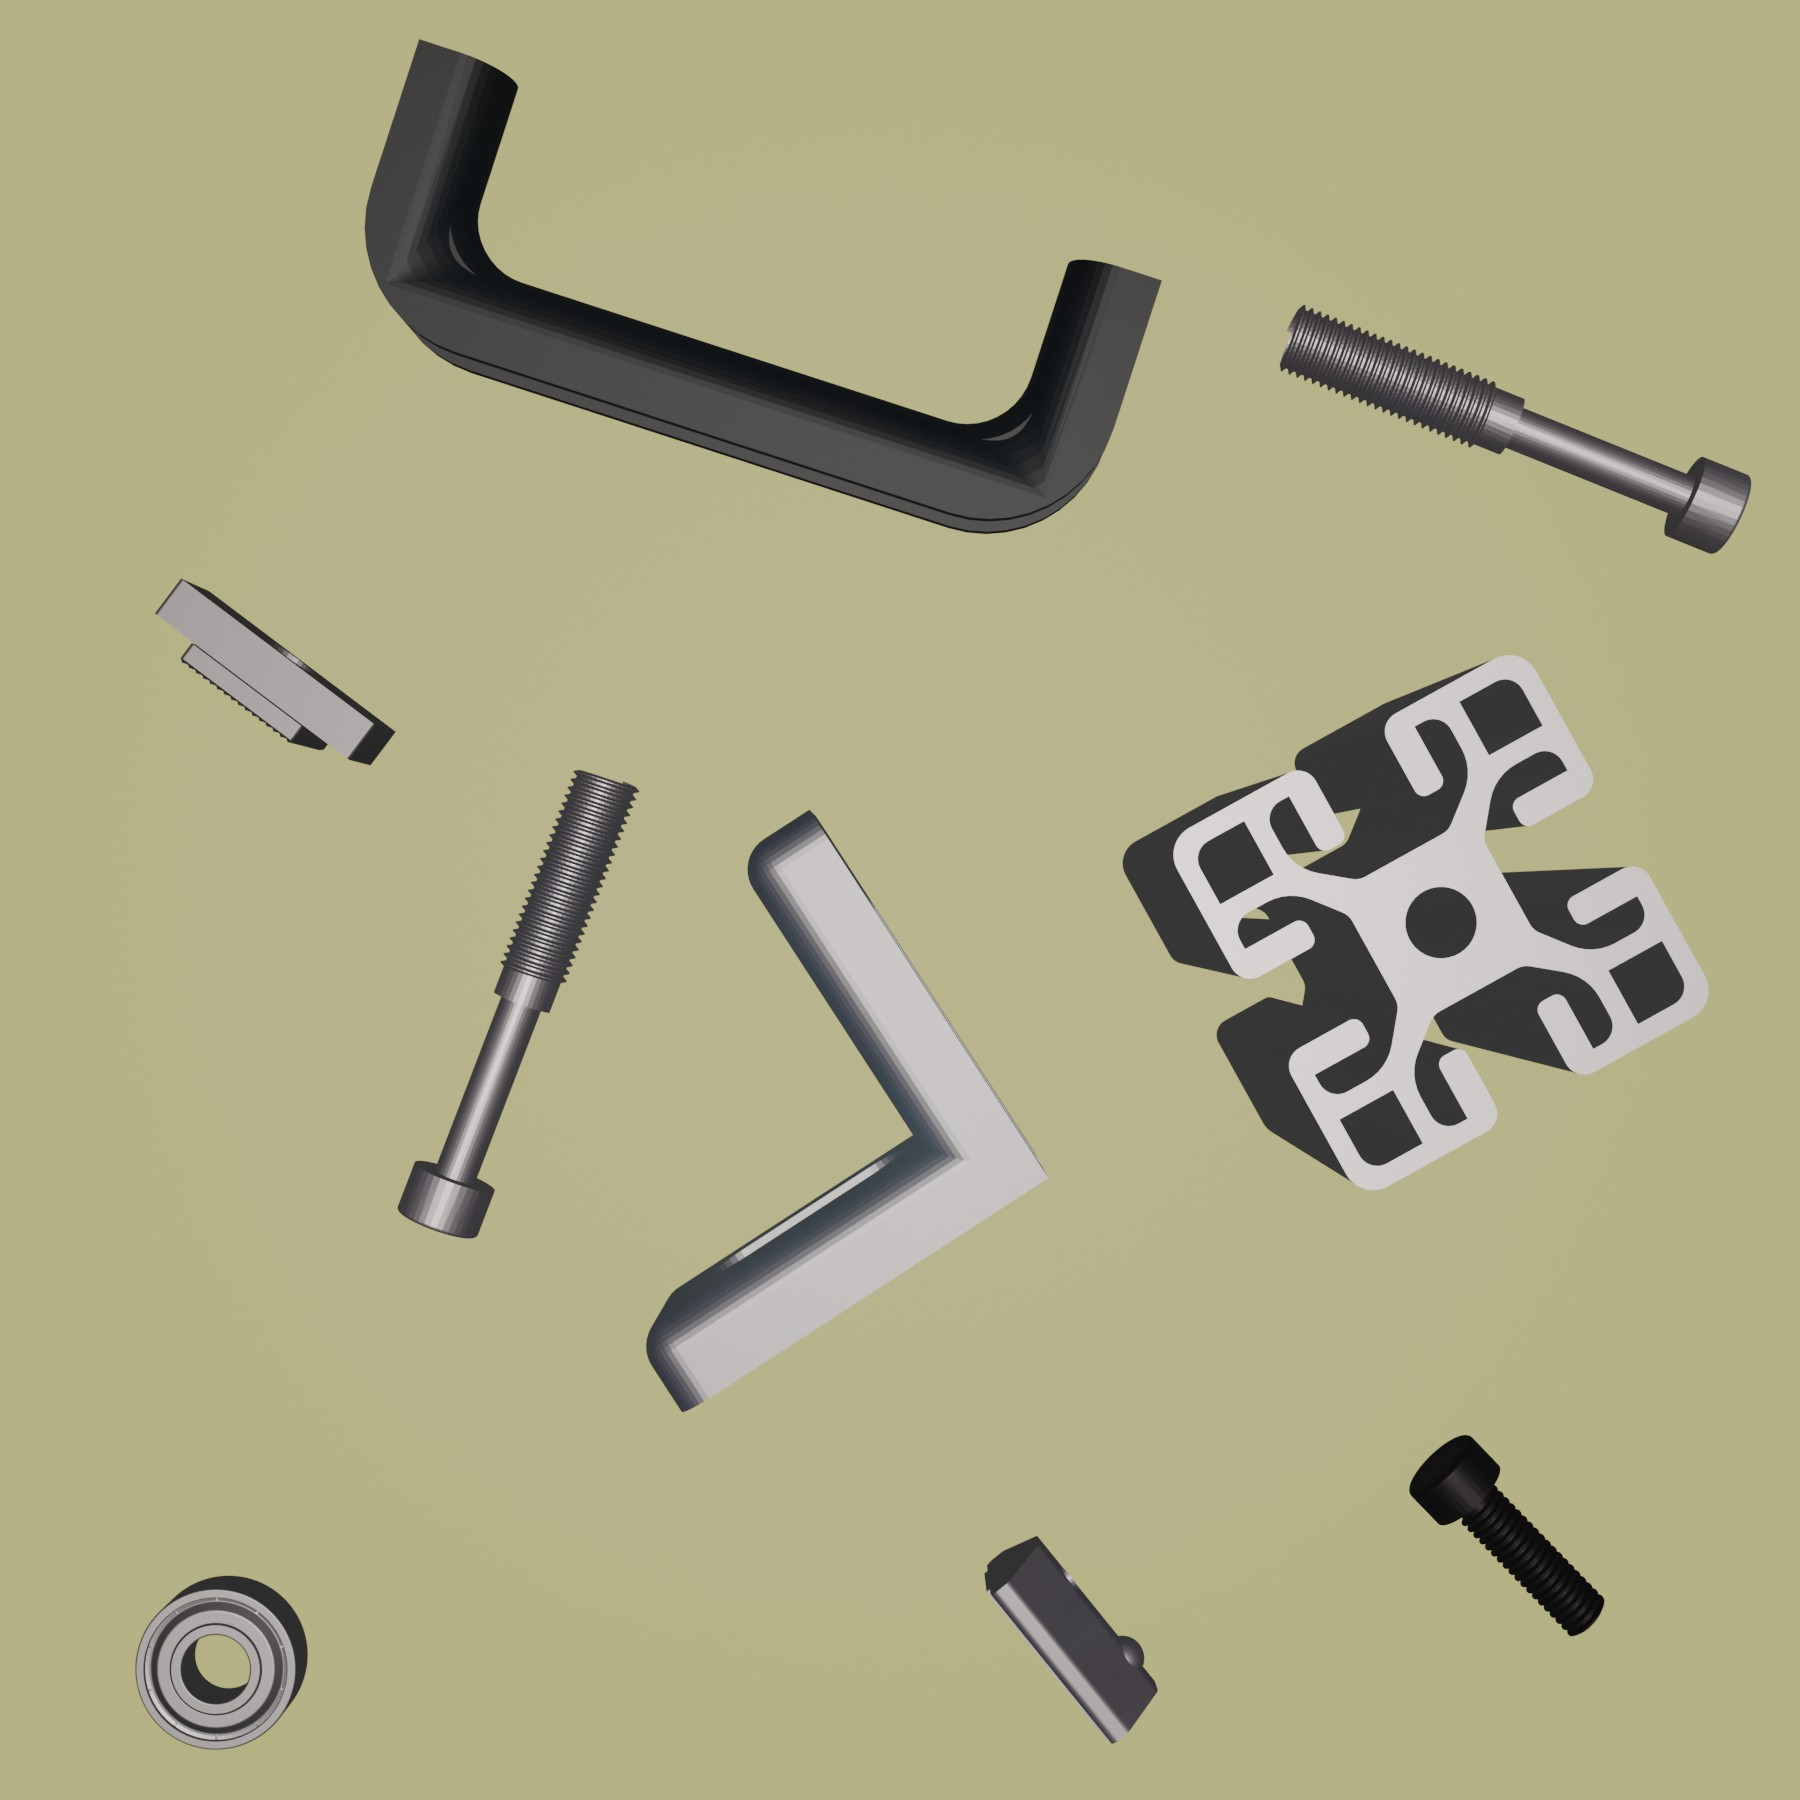Aluminium Extension: (1121, 649, 1713, 1197)
Ball Bearing: (134, 1573, 312, 1754)
Multiwinkel: (641, 804, 1053, 1416)
Pull Handle: (363, 35, 1165, 536)
Shoulder Socket Head Cap Screw: (1274, 302, 1754, 559), (396, 765, 640, 1241)
Socket Head Cap Screw: (1408, 1431, 1609, 1642)
T Nut Square: (150, 574, 397, 770)
T Spring Nut: (977, 1531, 1159, 1751)
